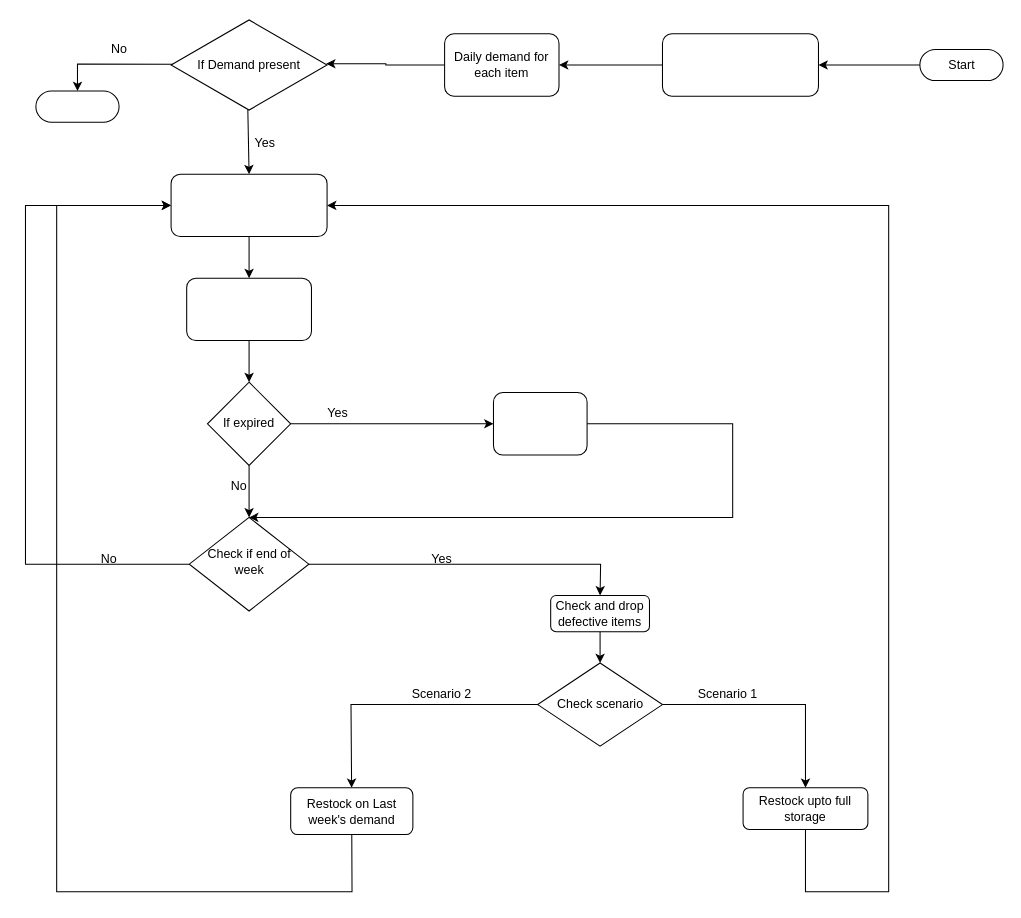
Image size: 1021x918. Some labels were removed from this diagram. Here are the shapes that lost their labels. From the top down, the centre of each, then its label:
At point (739, 64): "Get DataFrame of product".
At point (77, 106): "End".
At point (248, 205): "Drop sold items from DataFrame (Daily)".
At point (248, 309): "Reduce 1 day from expiry".
At point (539, 423): "Drop items".
